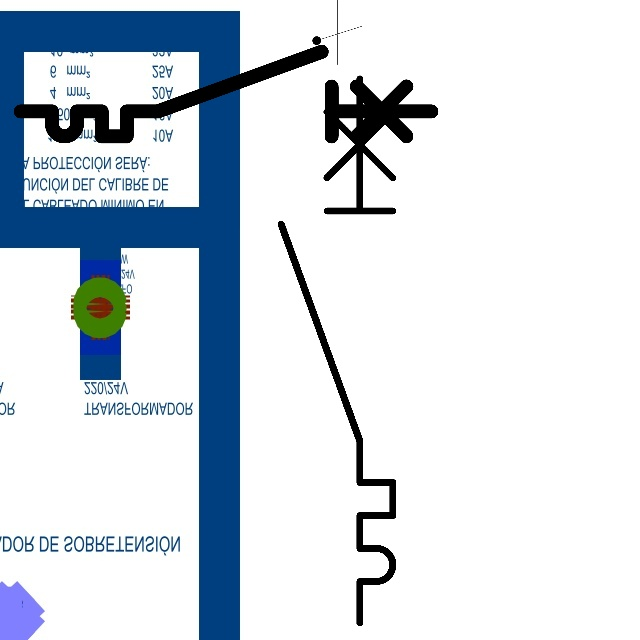interruptor_termomagnetico: (267, 64, 407, 636), (10, 41, 442, 147)
